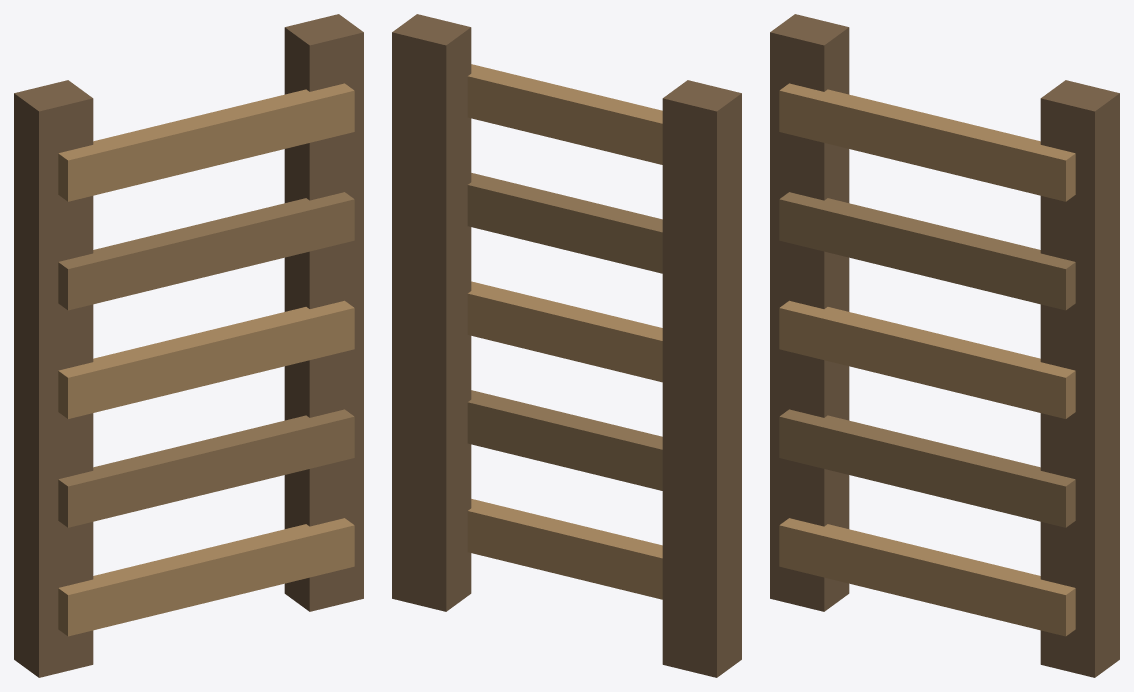
The model's file is SM_Ladder_1m_01_A.fbx.
3 renders of one model, left to right at view 1: azimuth 30°, elevation 25°; view 2: azimuth 150°, elevation 25°; view 3: azimuth 330°, elevation 25°, orthographic.
Parts seen in each view (by area): view 1: polySurface48; view 2: polySurface48; view 3: polySurface48.
Boxes of the visible parts, bbox=[...] form: polySurface48: bbox=[14, 14, 363, 677]; polySurface48: bbox=[392, 14, 741, 677]; polySurface48: bbox=[770, 14, 1119, 677].
Bounding box in the file's own units: 60 × 100 × 11.16.
1 material, 1 textured.
